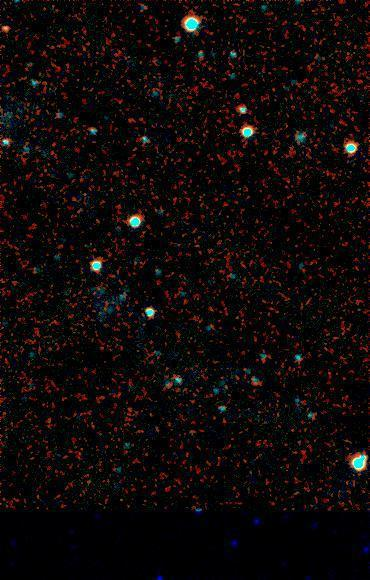star: (0, 16, 24, 46)
